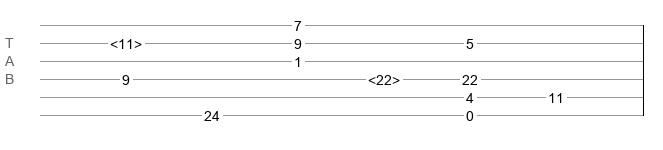0: (466, 108, 474, 118)
1: (294, 54, 302, 64)
11: (548, 90, 564, 100)
22: (462, 72, 478, 82)
24: (204, 108, 220, 118)
4: (466, 90, 474, 100)
5: (466, 36, 474, 46)
7: (294, 18, 302, 28)
9: (122, 72, 130, 82), (294, 36, 302, 46)
harmonic: (110, 36, 142, 46), (368, 72, 400, 82)
